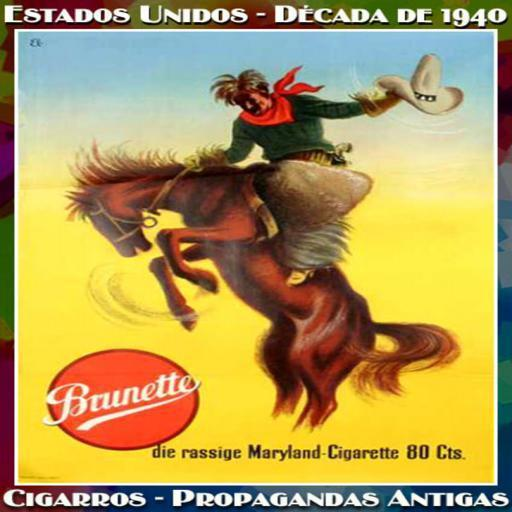horse: (64, 139, 462, 432)
